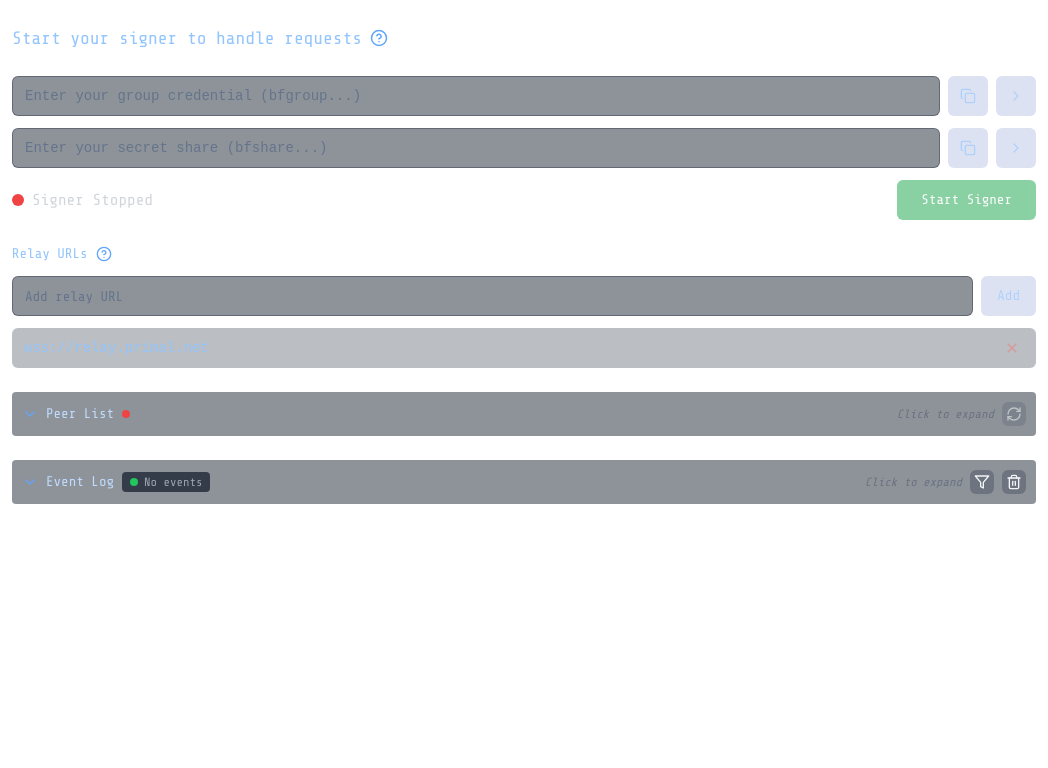
Signer Component UI Tests › User Interactions and UI Behavior › should allow adding relay URLs
Type "wss://test-relay.com" into the field with placeholder "Add relay URL". click: x=493, y=296
box: left=12, top=276, right=973, bottom=316
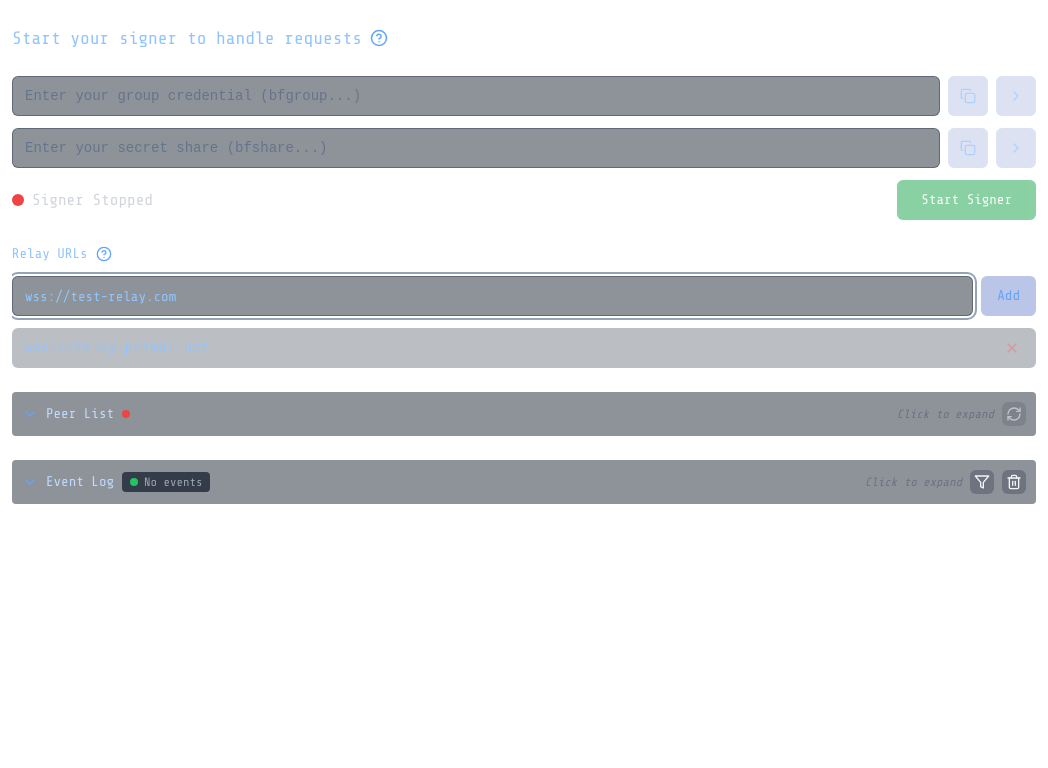
Click the button "Add". click: x=1009, y=296
box: left=981, top=276, right=1036, bottom=316
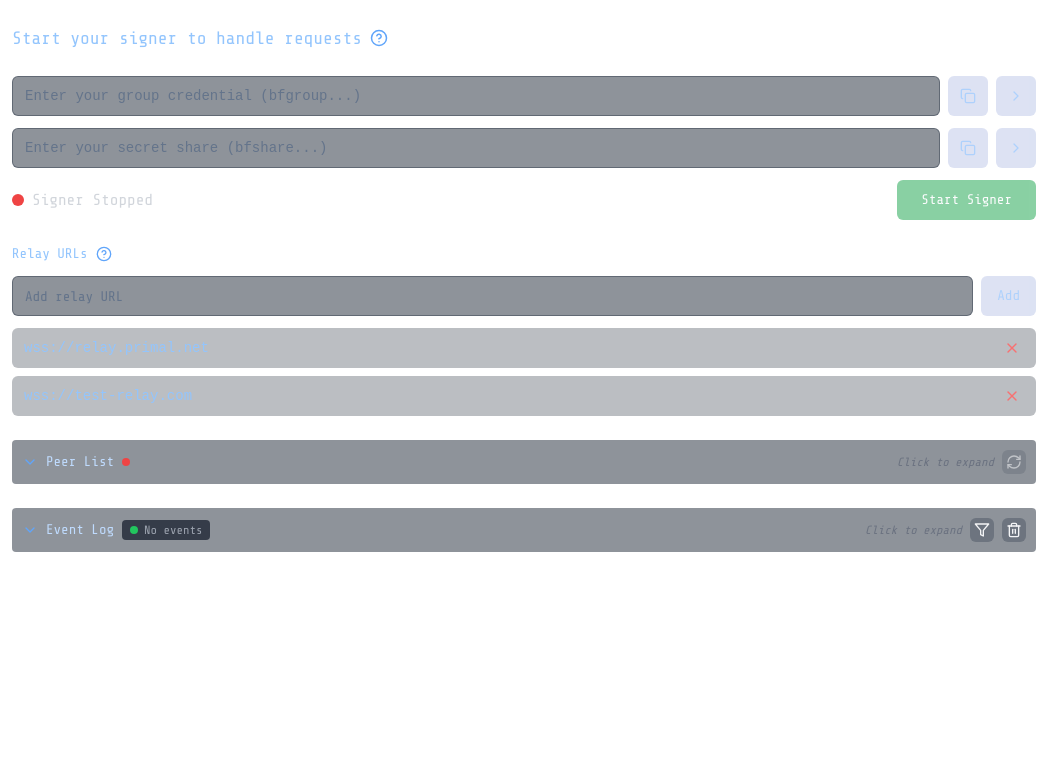
Check: the text "wss://test-relay.com" is shown, box left=24, top=386, right=192, bottom=406
